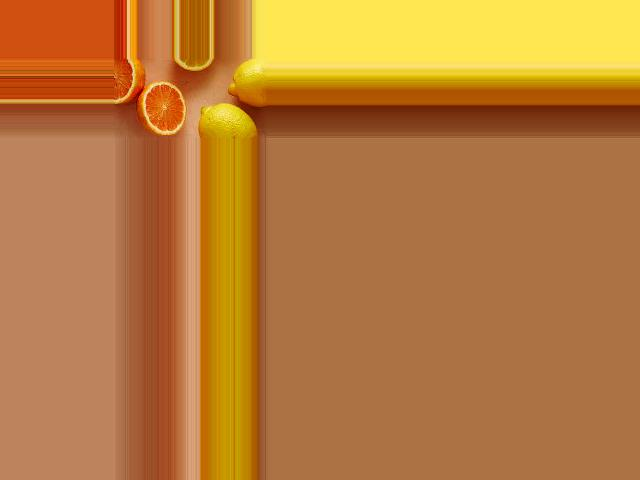lemon: (223, 60, 267, 108)
